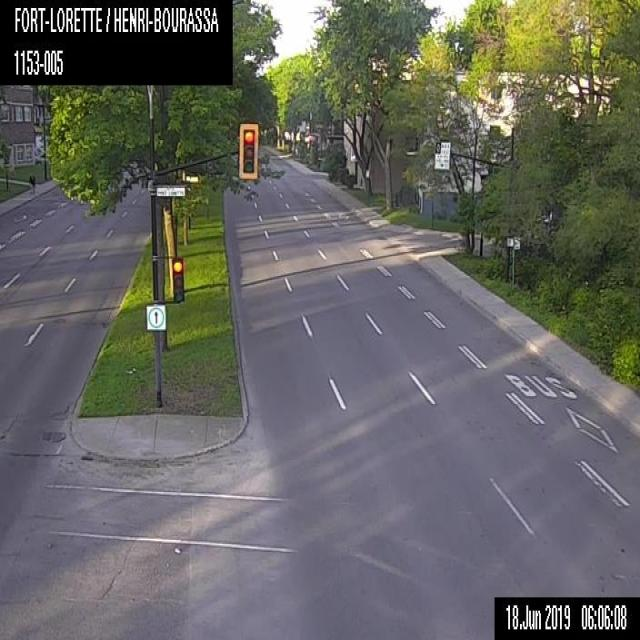pedestrian: (29, 171, 35, 192)
